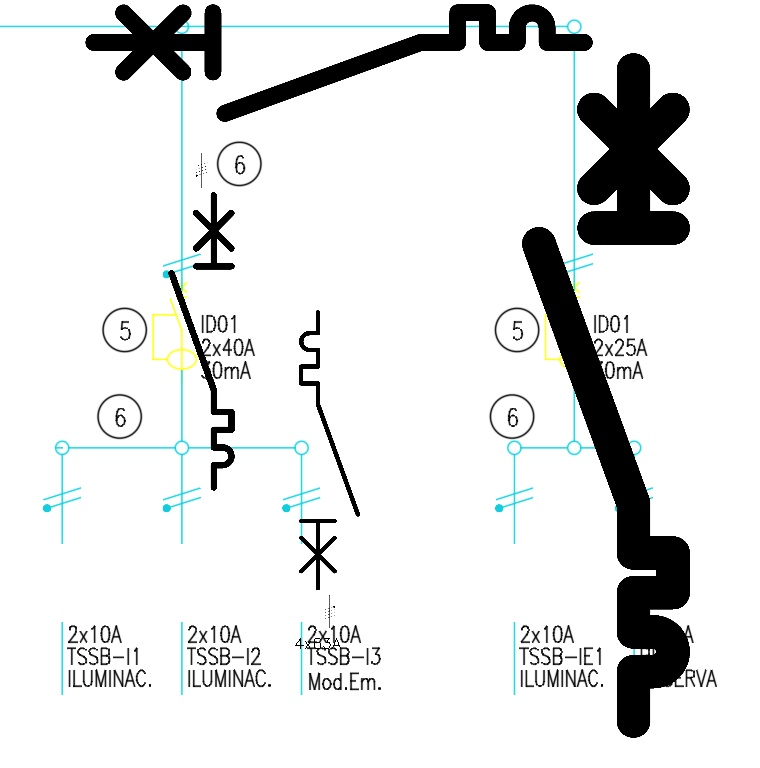interruptor_termomagnetico: (522, 53, 690, 738), (81, 0, 597, 126), (164, 187, 239, 494), (294, 305, 365, 595)
